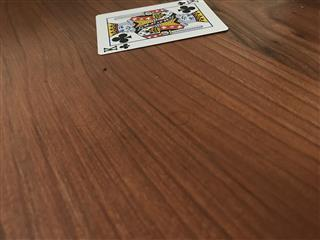KingOfClubs: (94, 1, 228, 55)
